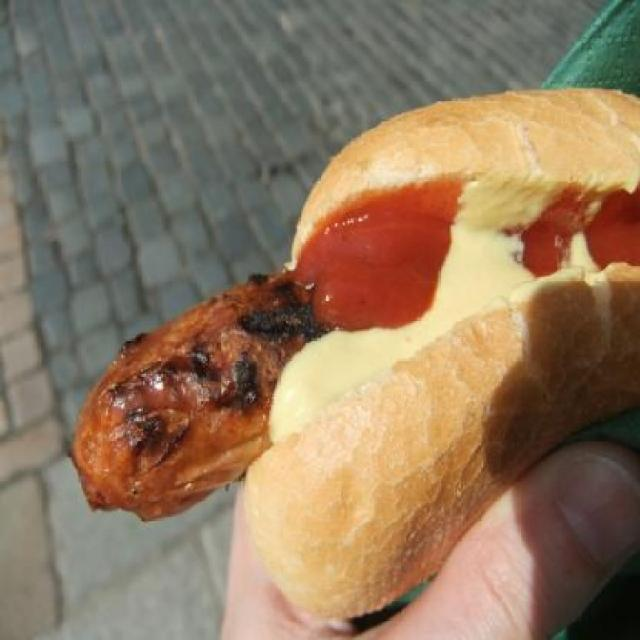Hot dog: (61, 89, 640, 626)
